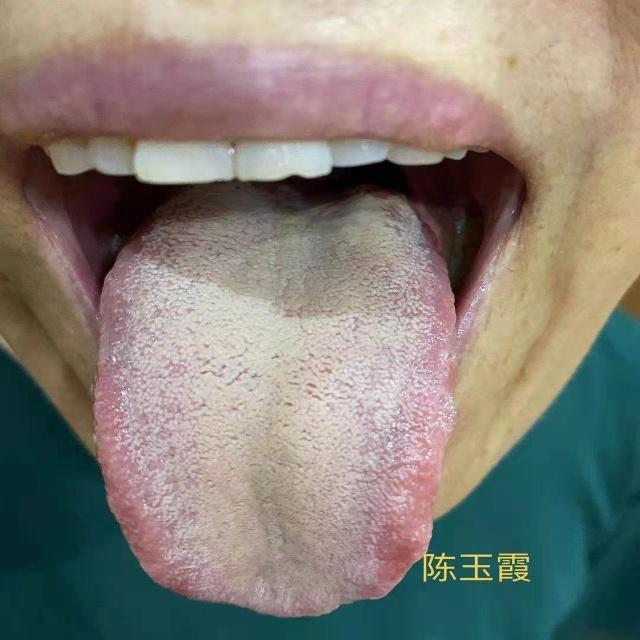huangtaishe: (92, 195, 457, 619)
